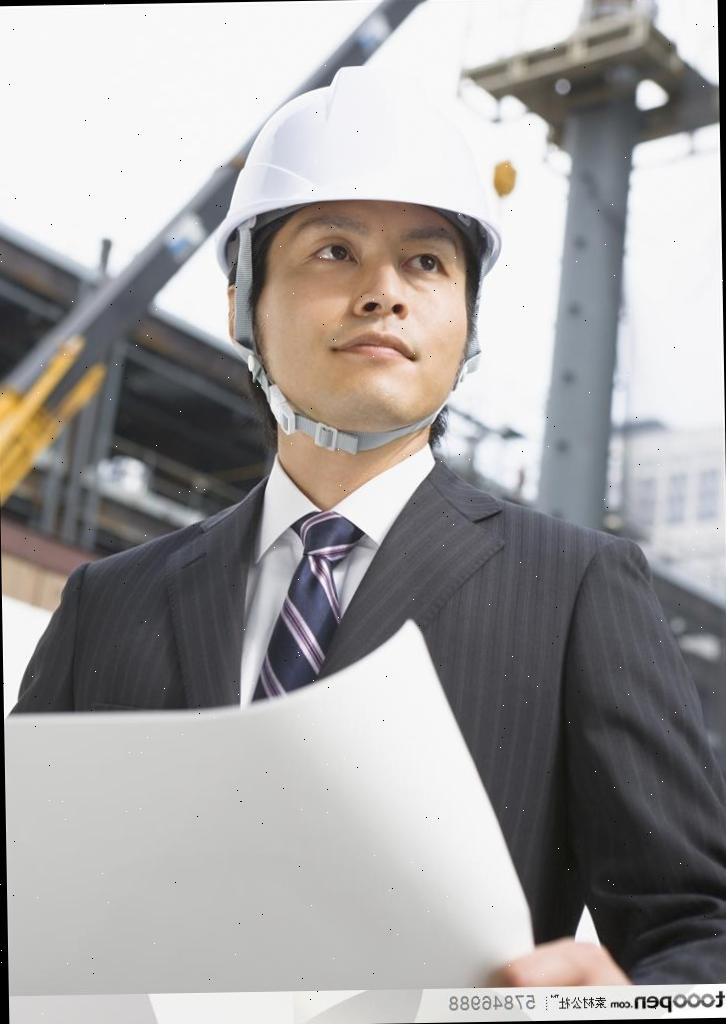helmet: (207, 60, 520, 266)
no_wear: (61, 491, 650, 736)
